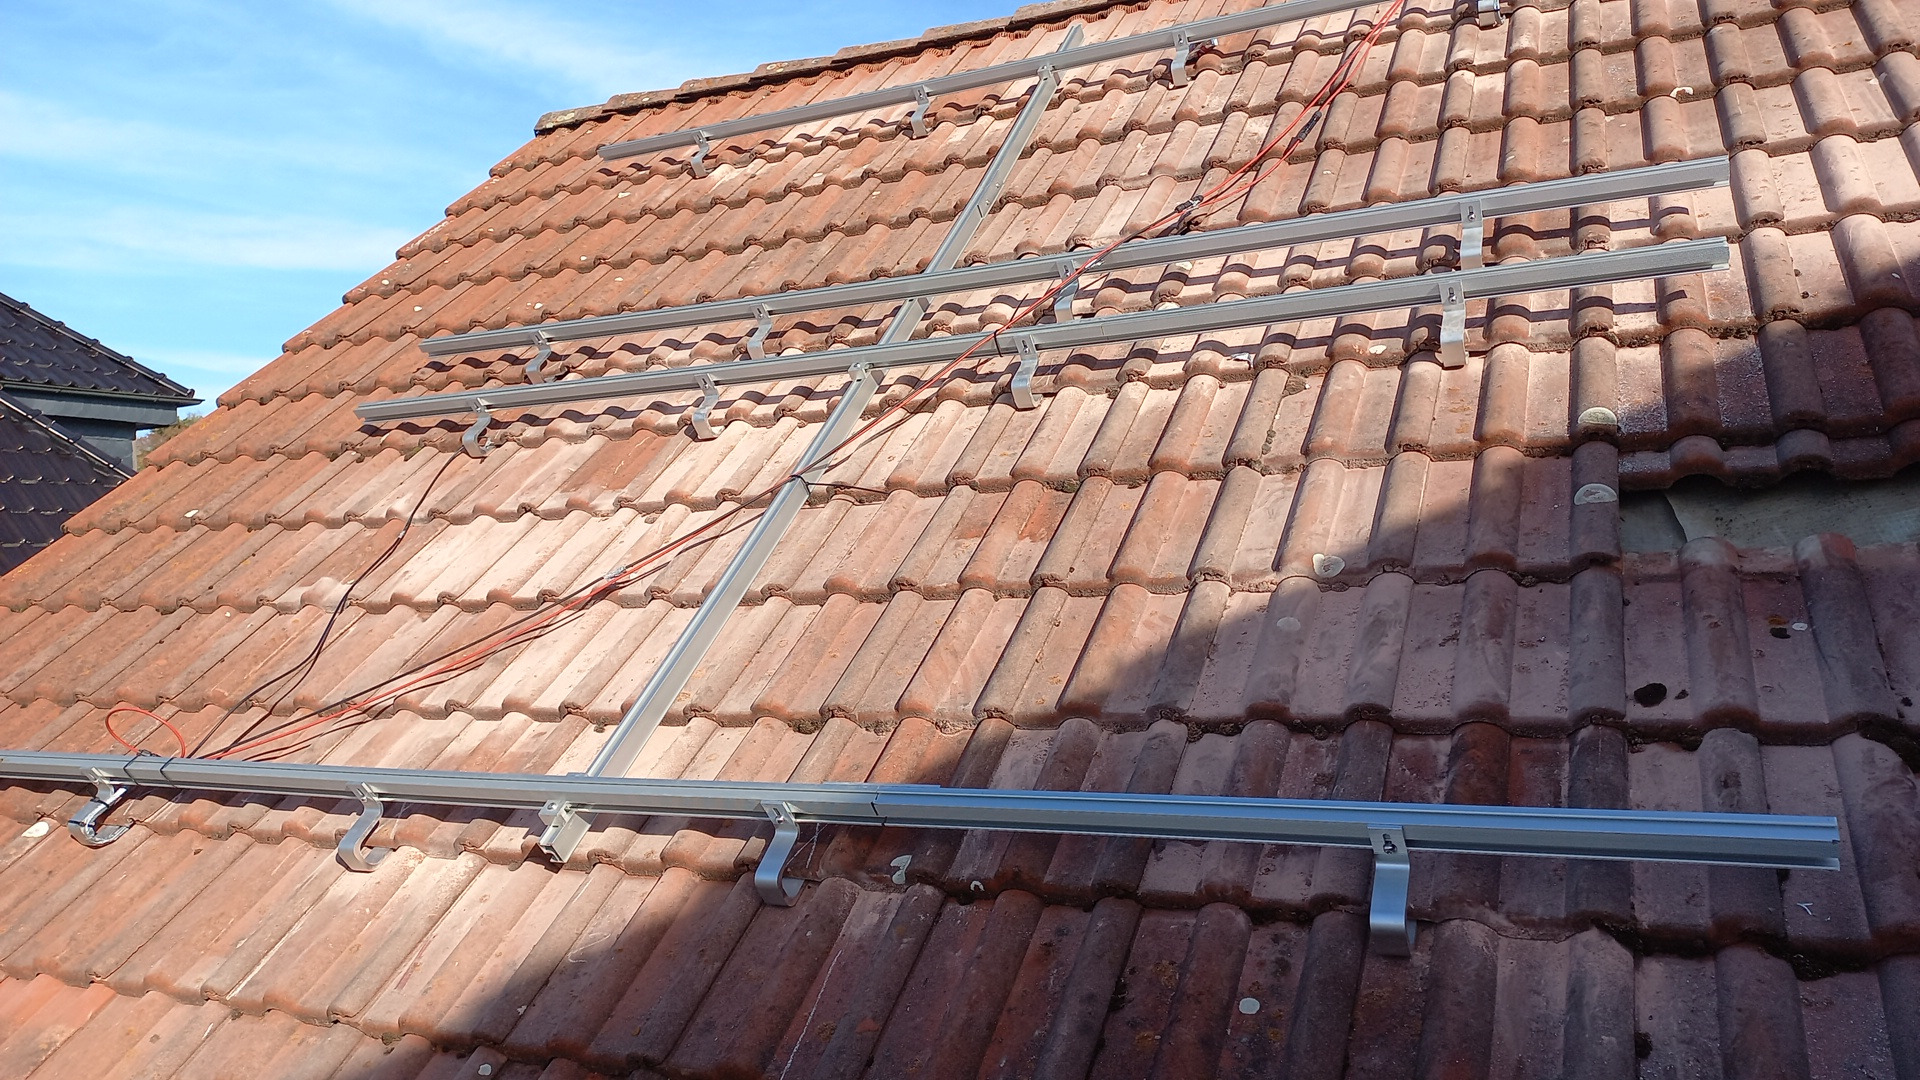hook: (1367, 824, 1418, 959), (754, 800, 806, 909), (338, 781, 394, 872), (67, 766, 129, 848), (1437, 280, 1469, 367), (1011, 334, 1043, 409), (691, 372, 725, 439), (462, 396, 496, 458), (1054, 258, 1084, 323), (1458, 199, 1486, 269), (746, 303, 779, 360), (525, 330, 555, 384), (1171, 26, 1193, 84), (690, 131, 715, 178), (911, 84, 934, 136), (1477, 1, 1509, 26)
